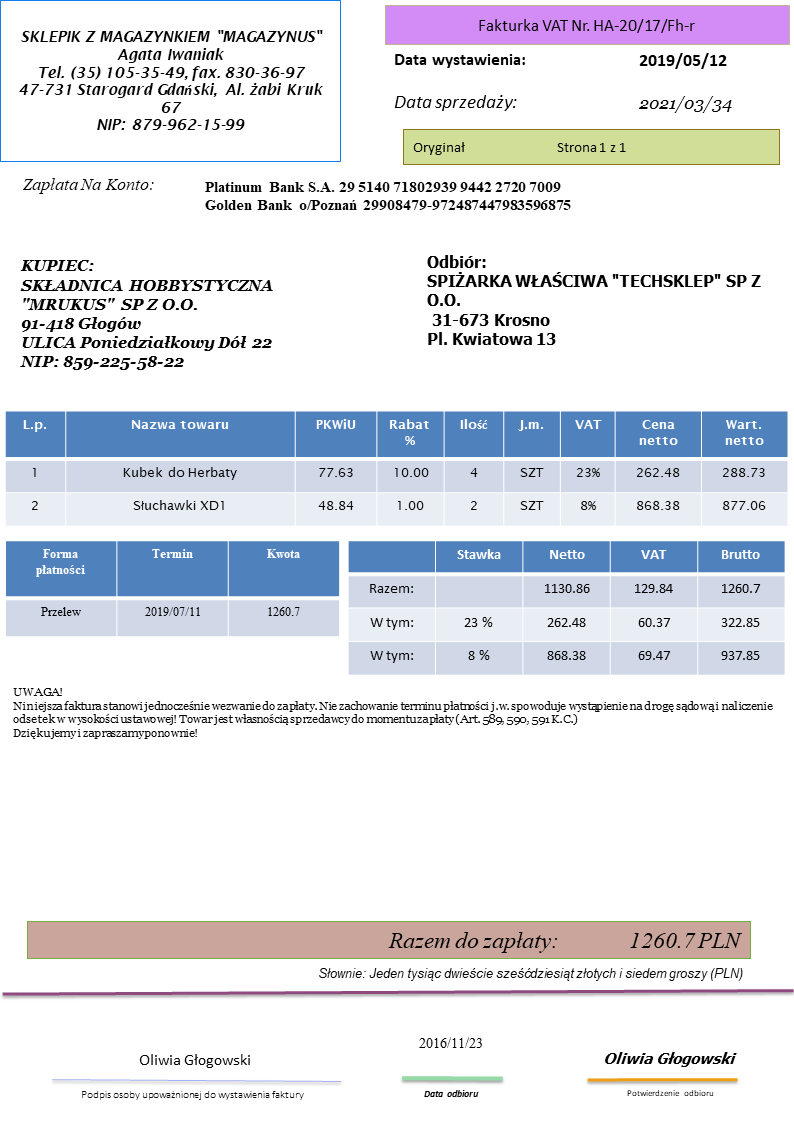Table: (3, 409, 789, 527), (346, 538, 785, 678), (4, 540, 339, 638)
TextBox: (8, 684, 778, 745), (423, 251, 765, 352), (16, 23, 326, 134), (17, 255, 278, 372), (201, 177, 574, 216), (317, 962, 746, 985), (384, 928, 744, 955), (474, 15, 697, 37), (410, 138, 628, 158), (78, 1086, 306, 1104), (19, 172, 156, 199), (391, 90, 517, 114), (391, 49, 528, 71), (601, 1048, 738, 1068), (136, 1049, 254, 1071), (635, 93, 734, 117), (634, 50, 728, 71), (623, 1085, 717, 1101), (415, 1033, 483, 1053), (420, 1086, 481, 1100)
